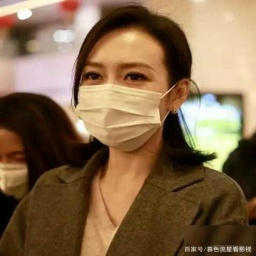correctlyWear: (71, 57, 191, 152), (1, 128, 32, 200)
